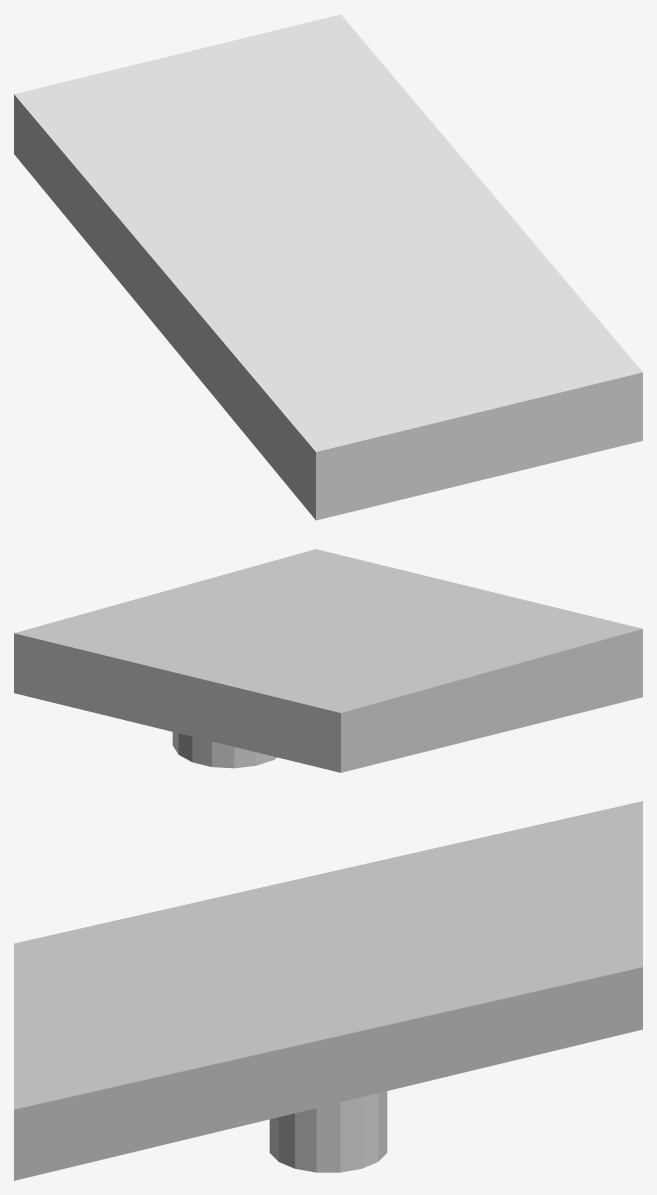
File: dc_metrobus_roof_1e.obj
3 views of the same model, one above another, from view 1: azimuth 30°, elevation 25°; view 2: azimuth 150°, elevation 25°; view 3: azimuth 270°, elevation 25° (orthographic). The views are drawn at different scales.
Visible parts, largest first — view 1: part1e; view 2: part1e; view 3: part1e.
Part boxes in pixels (x1,y1,x2,y2): part1e: [14, 14, 642, 520]; part1e: [14, 549, 642, 772]; part1e: [14, 801, 642, 1180].
Size of the model in its own units: 0.625 by 0.375 by 1.
Materials: 1 (1 with a texture image).
